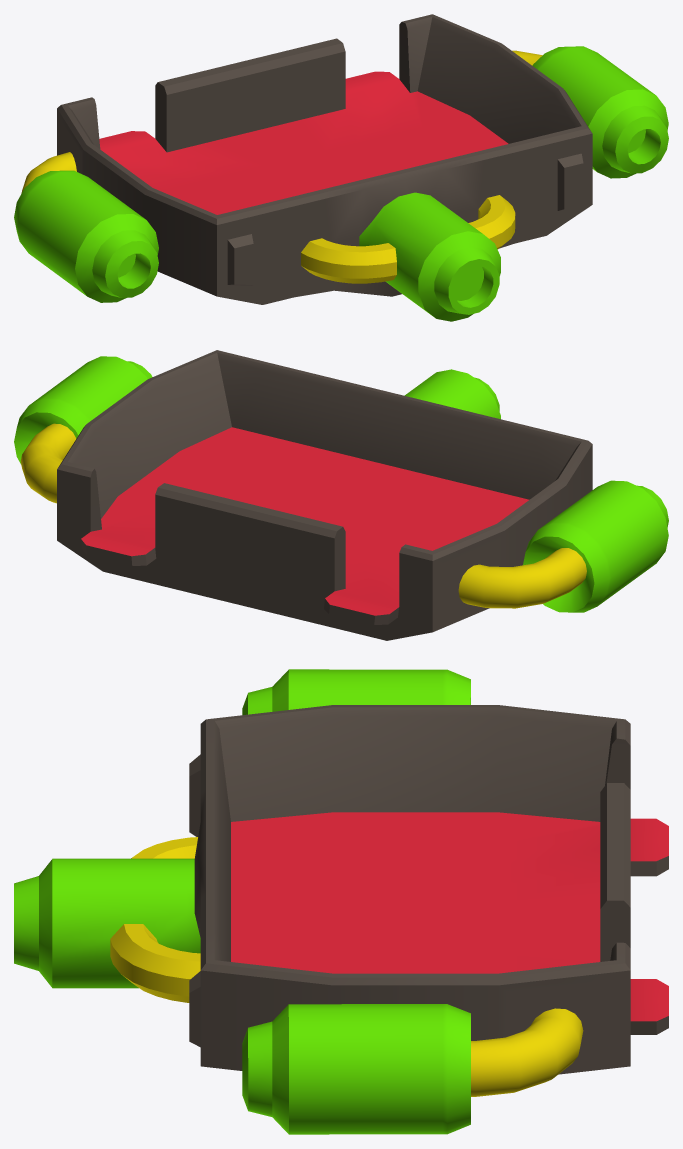
The model's file is Ship4.fbx.
The picture shows the model from 3 angles, top to bottom: view 1: azimuth 30°, elevation 25°; view 2: azimuth 150°, elevation 25°; view 3: azimuth 270°, elevation 25°; orthographic projection. The views are drawn at different scales.
Parts seen in each view (by area): view 1: Ship; view 2: Ship; view 3: Ship.
Boxes of the visible parts, box(x1,y1,x2,y2) form: Ship: box(14, 14, 668, 321); Ship: box(14, 350, 668, 640); Ship: box(14, 669, 668, 1134).
Size of the model in its own units: 3598 by 690 by 2555.
